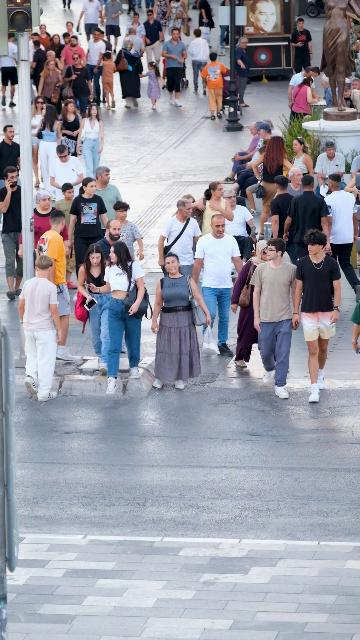person: (82, 241, 146, 395), (149, 252, 213, 391), (292, 229, 343, 403), (190, 214, 245, 357), (250, 237, 296, 399), (35, 211, 83, 361), (18, 255, 62, 402), (230, 240, 272, 368), (76, 244, 114, 376), (324, 174, 360, 302), (284, 175, 332, 266), (252, 136, 294, 239), (66, 177, 110, 274), (158, 199, 203, 278), (31, 190, 72, 270), (0, 166, 24, 300), (225, 121, 272, 186), (226, 143, 268, 215), (269, 175, 299, 264), (221, 121, 262, 185), (55, 183, 79, 290), (223, 190, 258, 263), (189, 181, 234, 237), (89, 166, 123, 240), (30, 95, 57, 188), (36, 105, 61, 201), (110, 41, 143, 109), (110, 200, 144, 262), (77, 103, 104, 180), (64, 53, 95, 120), (49, 145, 84, 204), (201, 52, 231, 120), (162, 27, 187, 107), (186, 28, 210, 96), (314, 141, 346, 192), (0, 124, 20, 203), (86, 27, 106, 104), (37, 59, 64, 115), (289, 77, 321, 122), (0, 32, 19, 107), (143, 9, 163, 79), (92, 220, 122, 266), (288, 66, 320, 109), (59, 99, 82, 157), (290, 18, 314, 73), (138, 62, 165, 110), (233, 37, 250, 109), (122, 27, 145, 76), (289, 137, 315, 180), (172, 194, 203, 229), (100, 51, 117, 110), (59, 35, 87, 69), (197, 0, 215, 49), (30, 40, 47, 89), (284, 167, 310, 198), (126, 13, 146, 44), (220, 0, 231, 48), (45, 50, 65, 76), (55, 32, 70, 66), (60, 21, 78, 46), (261, 119, 283, 139), (352, 300, 360, 354), (37, 24, 51, 50), (46, 34, 62, 56), (30, 32, 46, 51), (127, 0, 139, 17), (141, 0, 154, 9)
